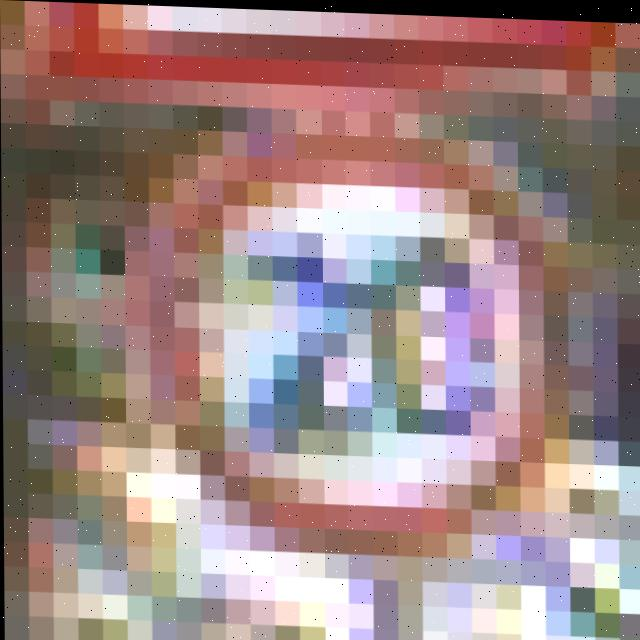speed_limit_20: (116, 106, 596, 563)
